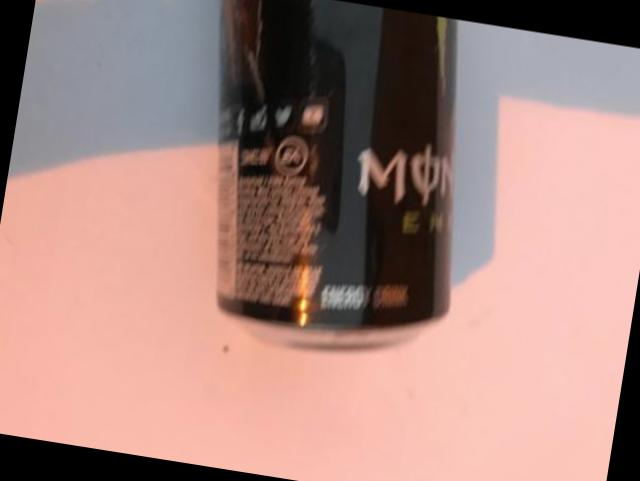metal: (218, 0, 456, 352)
